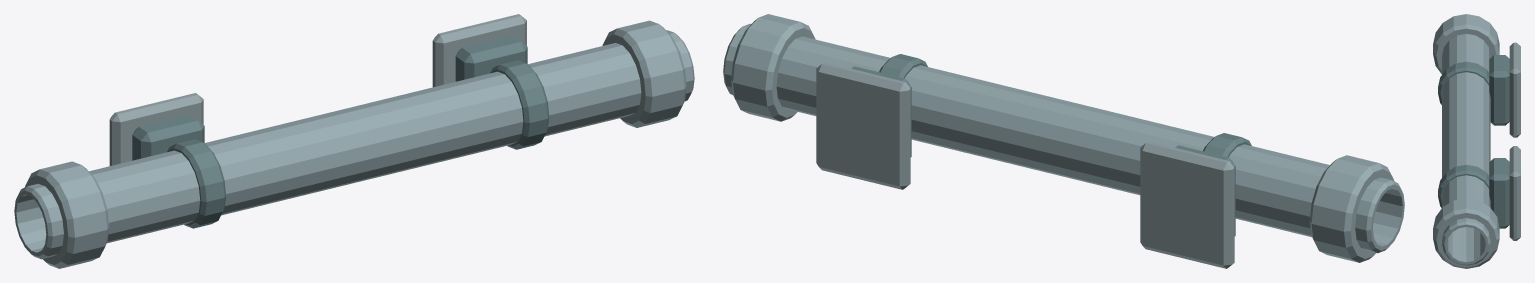
The model's file is Systems-StraightPipe.fbx.
3 renders of one model, left to right at view 1: azimuth 30°, elevation 25°; view 2: azimuth 150°, elevation 25°; view 3: azimuth 270°, elevation 25°, orthographic. The views are drawn at different scales.
Parts seen in each view (by area): view 1: Hollow Pipe, End Flange.001, End Flange, Bracket Foot.001, Bracket Foot, Mounting Strap.001, Mounting Strap, Wall Bracket.001, Wall Bracket; view 2: Hollow Pipe, Bracket Foot.001, Bracket Foot, End Flange.001, End Flange, Mounting Strap.001, Mounting Strap; view 3: Hollow Pipe, End Flange.001, End Flange, Wall Bracket, Wall Bracket.001, Bracket Foot, Bracket Foot.001, Mounting Strap, Mounting Strap.001.
Boxes of the visible parts, x1,y1,x2,y2 form: Hollow Pipe: [14, 30, 694, 259]; End Flange.001: [602, 20, 686, 127]; End Flange: [24, 161, 109, 268]; Bracket Foot.001: [432, 14, 526, 87]; Bracket Foot: [109, 93, 203, 165]; Mounting Strap.001: [490, 60, 549, 149]; Mounting Strap: [167, 139, 225, 228]; Wall Bracket.001: [455, 35, 527, 81]; Wall Bracket: [132, 114, 204, 160]; Hollow Pipe: [723, 23, 1404, 253]; Bracket Foot.001: [816, 62, 910, 189]; Bracket Foot: [1140, 141, 1234, 268]; End Flange.001: [731, 14, 815, 121]; End Flange: [1309, 155, 1394, 262]; Mounting Strap.001: [879, 54, 927, 78]; Mounting Strap: [1203, 133, 1251, 157]; Hollow Pipe: [1442, 34, 1490, 265]; End Flange.001: [1433, 198, 1499, 268]; End Flange: [1433, 14, 1499, 74]; Wall Bracket: [1489, 55, 1509, 125]; Wall Bracket.001: [1489, 158, 1509, 228]; Bracket Foot: [1509, 42, 1520, 137]; Bracket Foot.001: [1509, 146, 1520, 240]; Mounting Strap: [1438, 61, 1489, 104]; Mounting Strap.001: [1438, 164, 1489, 207].
Size of the model in its own units: 0.6 by 0.094 by 0.108.
